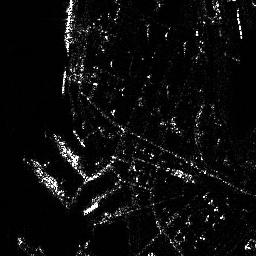ship: (27, 161, 66, 199), (52, 133, 80, 168), (62, 1, 75, 55), (81, 200, 102, 216)
